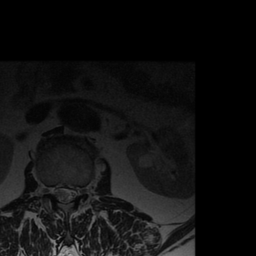CCS_normal: (61, 179, 69, 210)
LFS_normal: (78, 181, 85, 200)
LLS_normal: (69, 180, 77, 204)
RFS_normal: (46, 179, 53, 201)
RLS_normal: (53, 178, 61, 206)
